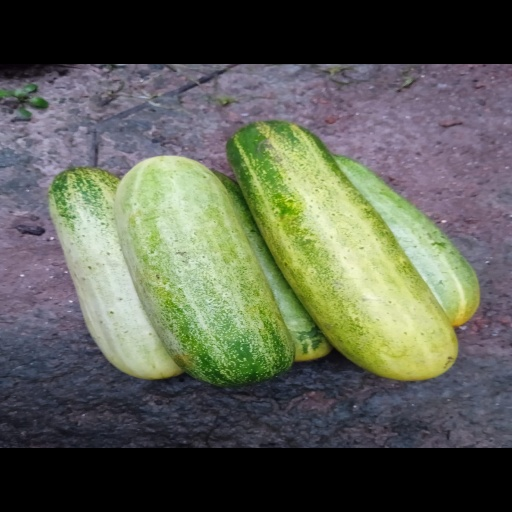concombre: (226, 120, 458, 381), (113, 155, 295, 389), (47, 166, 185, 380), (331, 154, 480, 329), (209, 168, 334, 363)
